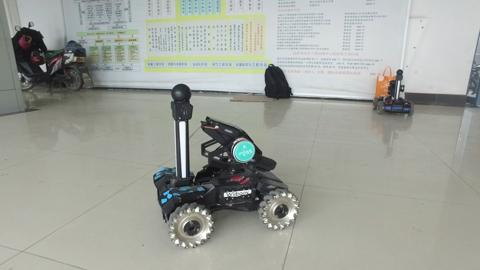bag: (261, 61, 295, 102), (371, 63, 396, 98)
chariot: (151, 82, 300, 250), (370, 67, 414, 118)
